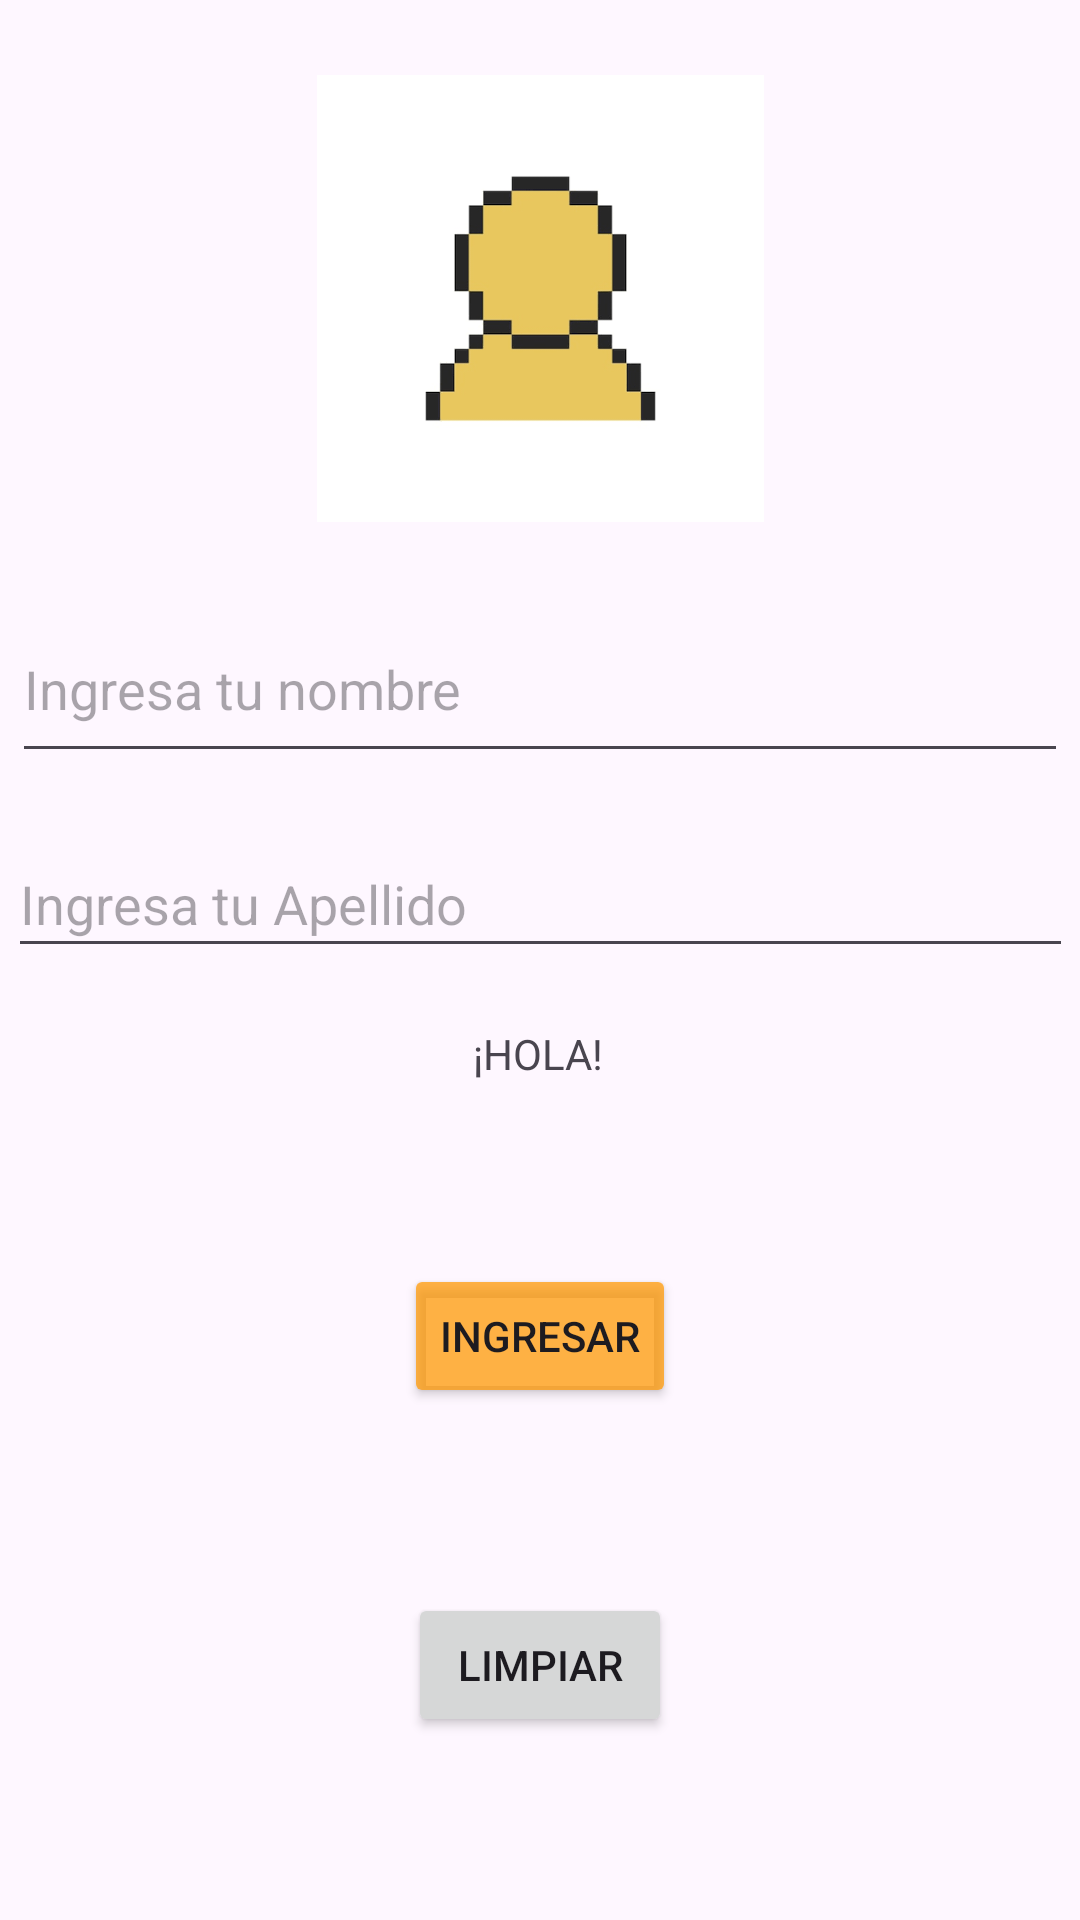

Screen size 1080x1920. Icon name, then its center in pixels as (x=x, y=y):
user: (x=540, y=298)
